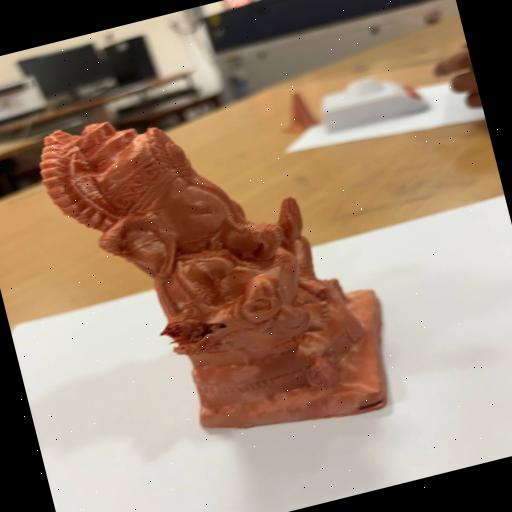cracks: (162, 297, 237, 360), (350, 392, 390, 419)
